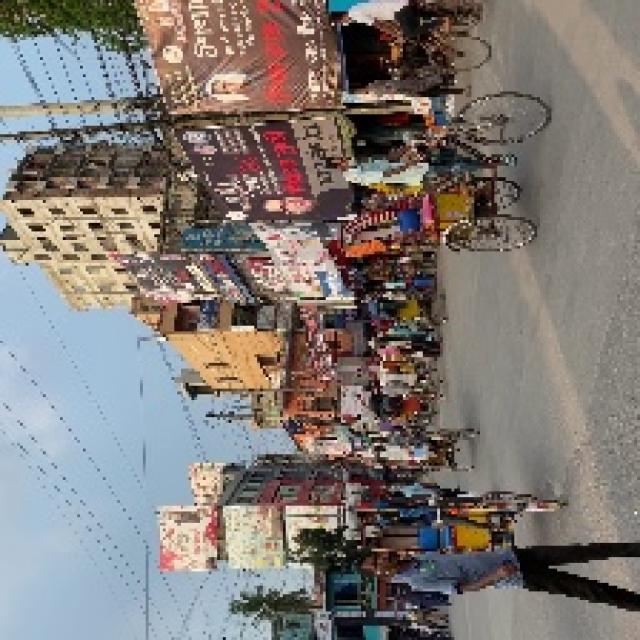rickshaw: (329, 92, 546, 255), (351, 488, 562, 551), (370, 428, 487, 466), (359, 294, 448, 328), (375, 394, 439, 420)
